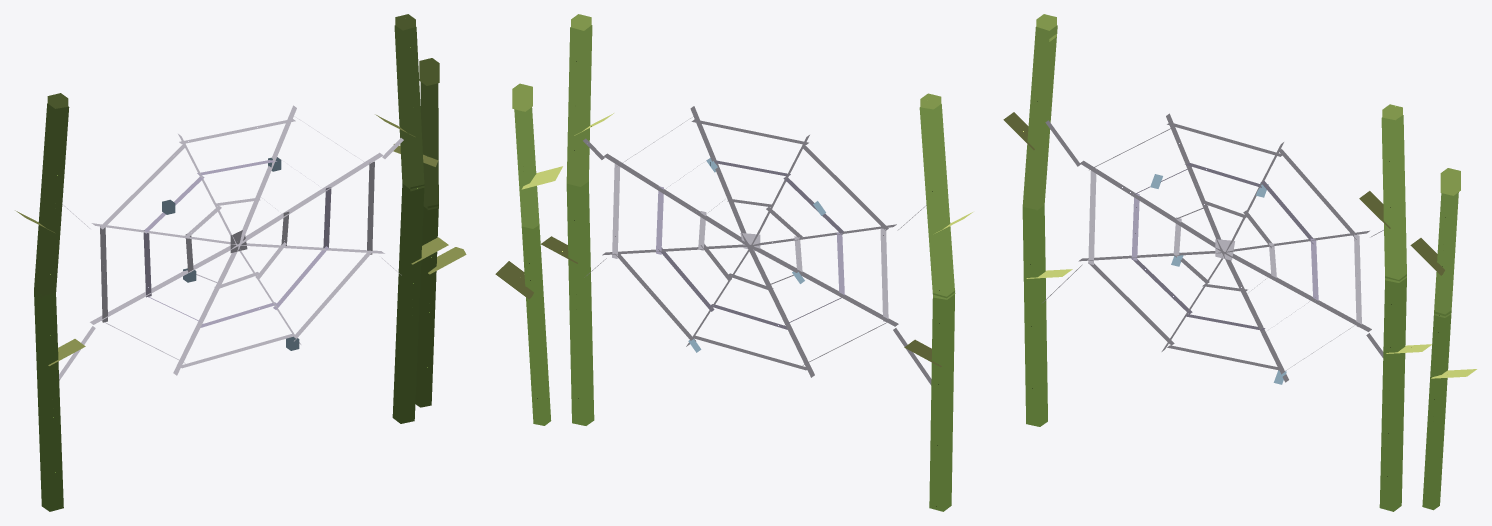
File: spider-web-google_cM0NzColM_0-blocky_lod1.glb
3 renders of one model, left to right at view 1: azimuth 30°, elevation 25°; view 2: azimuth 150°, elevation 25°; view 3: azimuth 330°, elevation 25°, orthographic.
Visible parts, largest first — view 1: Spider_web; view 2: Spider_web; view 3: Spider_web.
Part boxes in pixels (<box>): Spider_web: <box>15,14,466,511</box>; Spider_web: <box>495,14,972,511</box>; Spider_web: <box>1003,14,1476,511</box>.
Size of the model in its own units: 2.43 by 2.08 by 0.259.
Materials: 1 (1 with a texture image).
